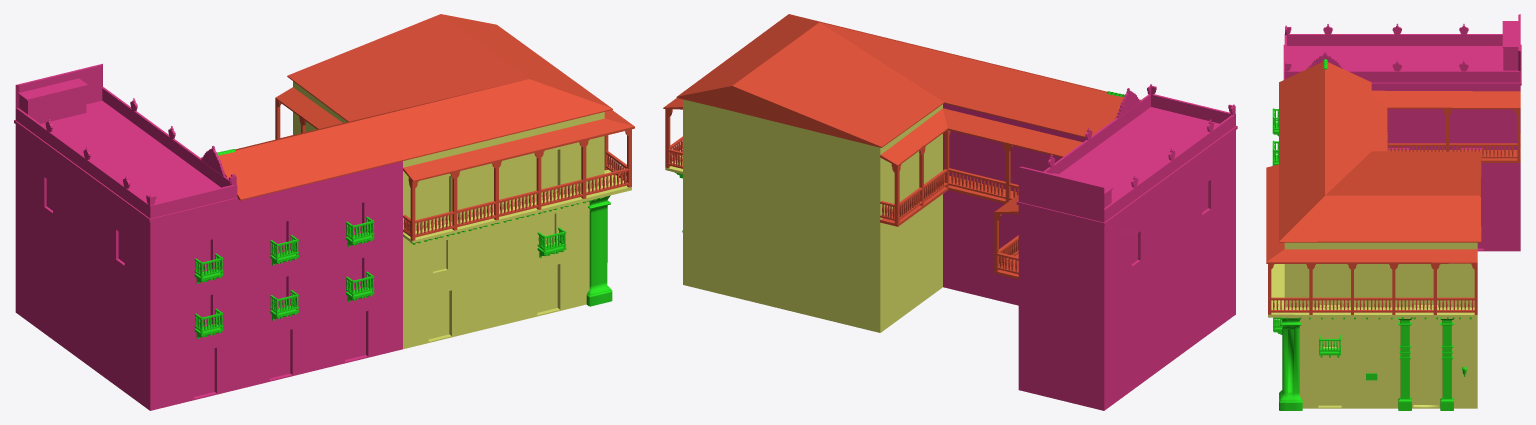
The model's file is Big House.fbx.
3 renders of one model, left to right at view 1: azimuth 30°, elevation 25°; view 2: azimuth 150°, elevation 25°; view 3: azimuth 270°, elevation 25°, orthographic. The views are drawn at different scales.
Visible parts, largest first — view 1: Cube.025; view 2: Cube.025; view 3: Cube.025.
Boxes of the visible parts, <box> form: Cube.025: <box>14,14,634,410</box>; Cube.025: <box>663,14,1237,410</box>; Cube.025: <box>1266,14,1521,410</box>.
Bounding box in the file's own units: 2410 × 1103 × 1277.
